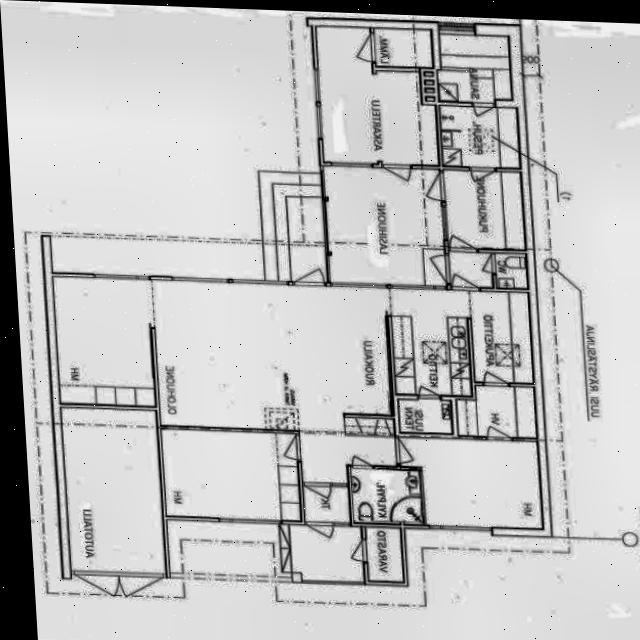room: (61, 402, 166, 580), (316, 20, 438, 171), (320, 166, 450, 286), (397, 438, 545, 529), (158, 430, 304, 521), (444, 165, 525, 255), (437, 35, 514, 104), (438, 106, 522, 168), (287, 524, 365, 583), (349, 469, 425, 525), (456, 386, 537, 438), (373, 28, 434, 67), (366, 525, 403, 583), (398, 400, 452, 433), (303, 486, 351, 523), (448, 252, 494, 288), (495, 252, 527, 290)
